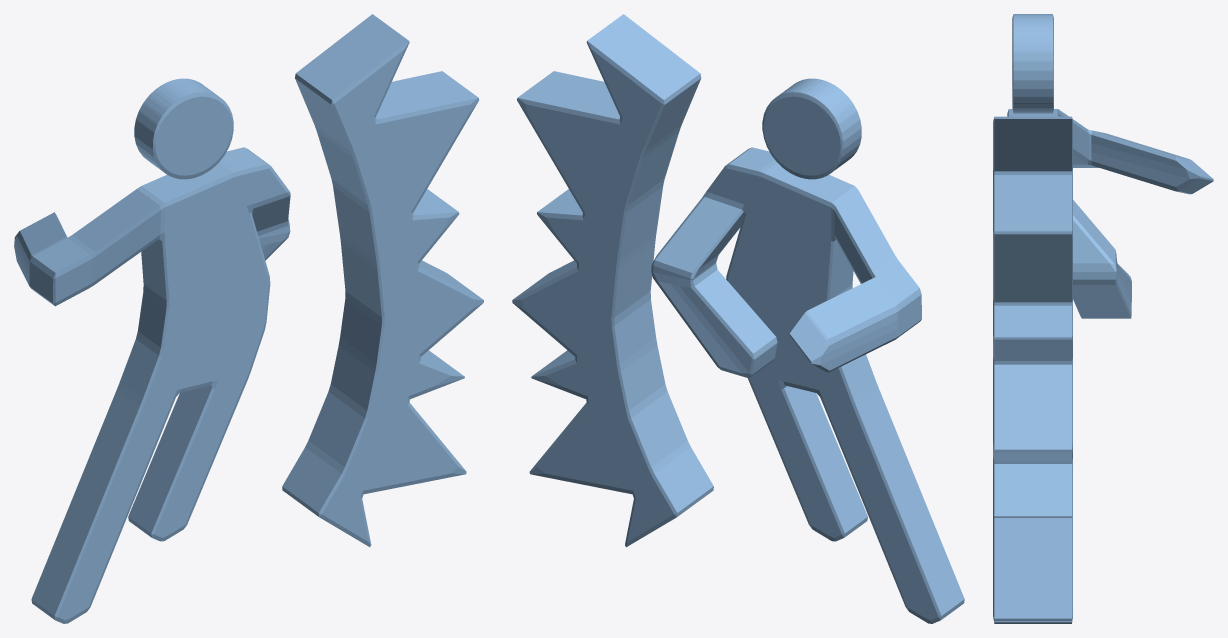
Rendered from empuje.fbx.
3 renders of one model, left to right at view 1: azimuth 30°, elevation 25°; view 2: azimuth 150°, elevation 25°; view 3: azimuth 270°, elevation 25°, orthographic. The views are drawn at different scales.
Parts seen in each view (by area): view 1: empuje; view 2: empuje; view 3: empuje.
Part boxes in pixels (bbox=[...]): empuje: bbox=[14, 14, 483, 623]; empuje: bbox=[512, 14, 964, 623]; empuje: bbox=[993, 14, 1213, 623].
Bounding box in the file's own units: 253 × 290 × 108.
